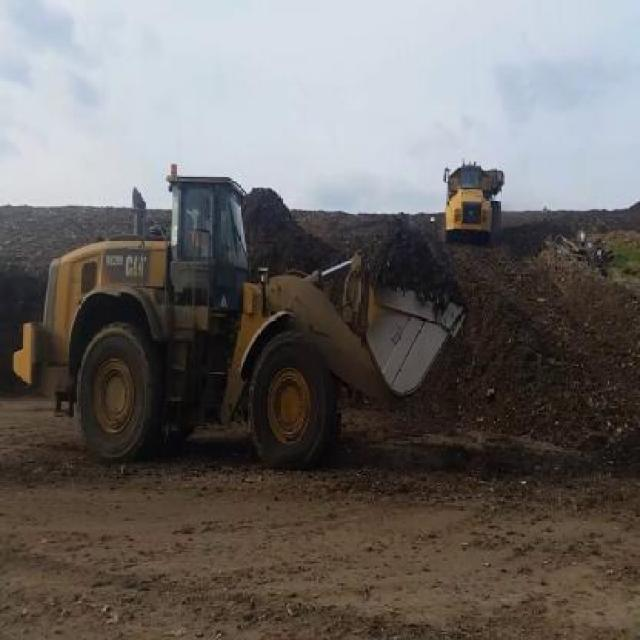Loader: (6, 162, 462, 466)
